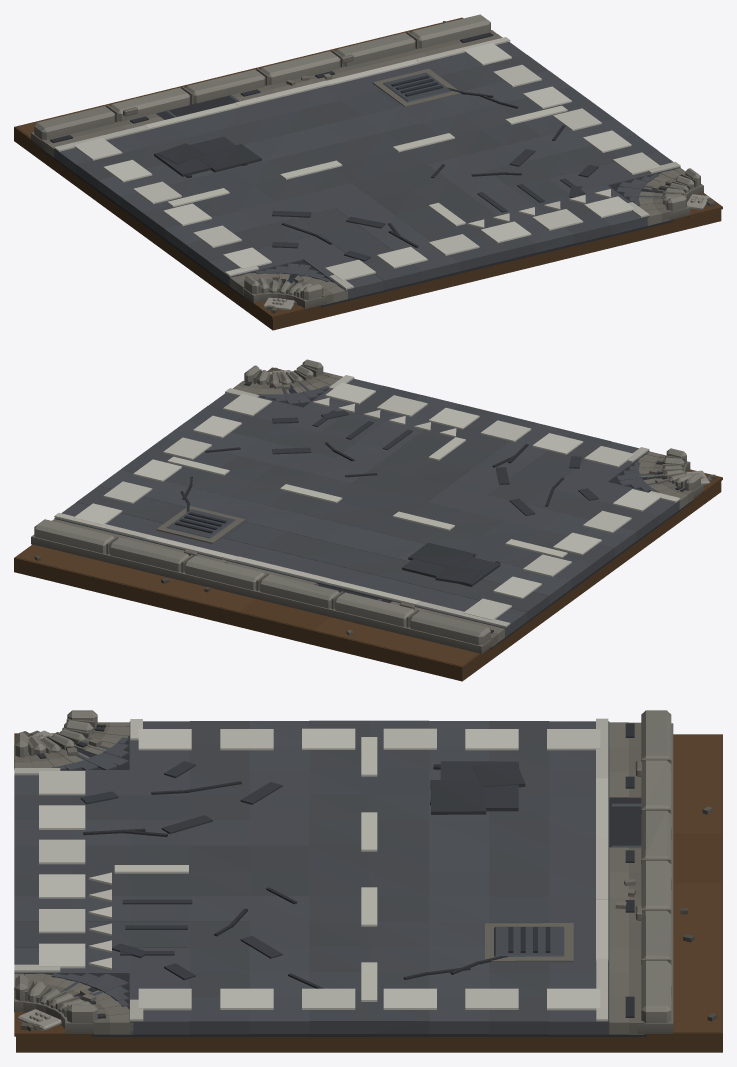
The model's file is road-t-01.glb.
3 renders of one model, top to bottom at view 1: azimuth 30°, elevation 25°; view 2: azimuth 150°, elevation 25°; view 3: azimuth 270°, elevation 25°, orthographic. The views are drawn at different scales.
Visible parts, largest first — view 1: road_t_01; view 2: road_t_01; view 3: road_t_01.
Part boxes in pixels (x1,y1,x2,y2): road_t_01: (14, 14, 722, 330); road_t_01: (14, 359, 722, 681); road_t_01: (14, 710, 722, 1052).
Size of the model in its own units: 4.01 by 0.287 by 3.99.
